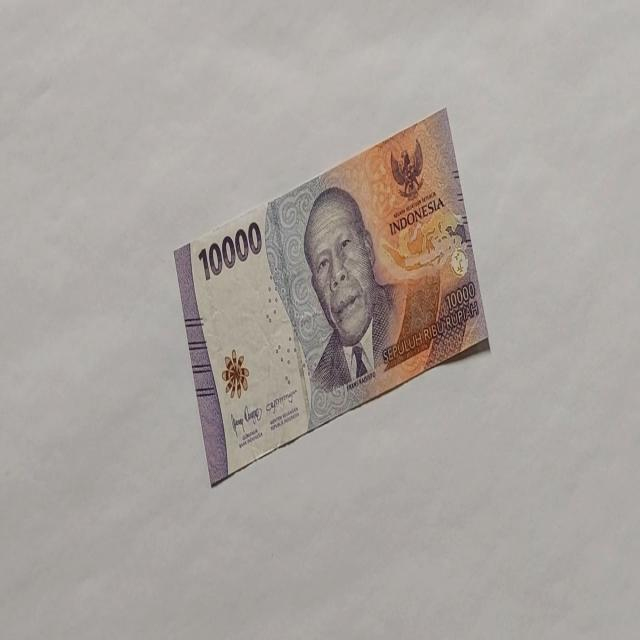sepuluh ribu rupiah: (172, 105, 490, 487), (301, 184, 393, 393), (196, 220, 262, 282)
